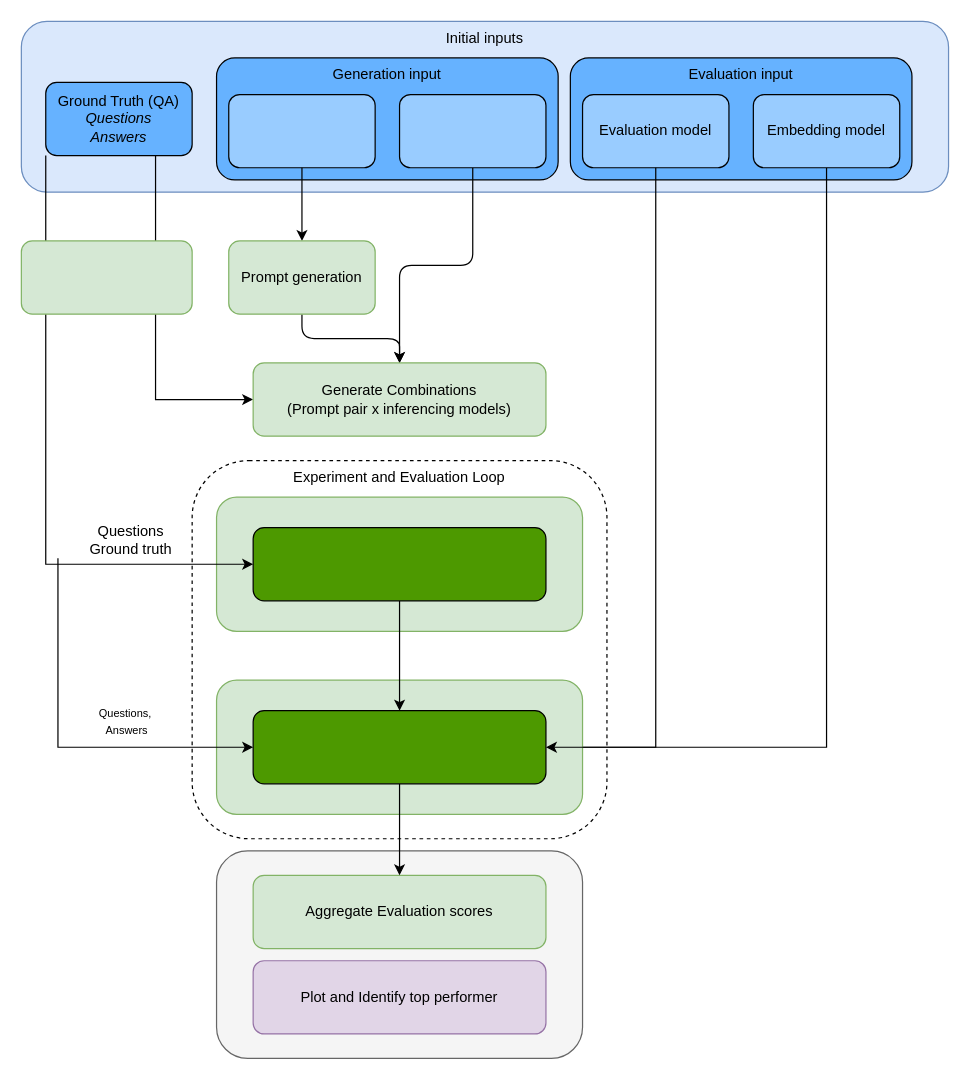
Image size: 970x1080. Some labels were removed from this diagram. The centre of each missing label's shape, as x and y in pixels:
"Inferencing models (Generative)" goes at point 472,130.
"Prompt pairs (System and user)" goes at point 301,130.
"Rephrase GT questions" goes at point 106,277.
"Run Evaluation: Compute scores" goes at point 399,746.
"Run Experiment: Generate Answers" goes at point 399,563.
